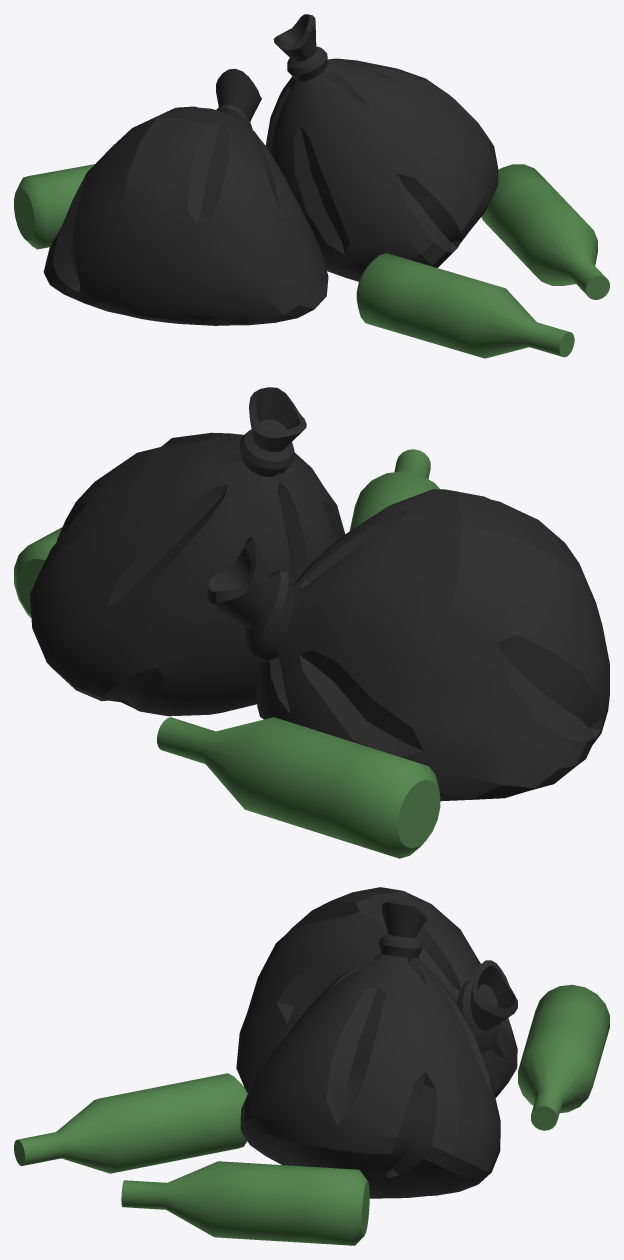
Rendered from TrashGlass.glb.
3 views of the same model, one above another, from view 1: azimuth 30°, elevation 25°; view 2: azimuth 150°, elevation 25°; view 3: azimuth 270°, elevation 25° (orthographic). The views are drawn at different scales.
Visible parts, largest first — view 1: TrashBag_2, Cylinder010, Cylinder011, Cylinder012; view 2: TrashBag_2, Cylinder012, Cylinder010, Cylinder011; view 3: TrashBag_2, Cylinder011, Cylinder010, Cylinder012.
Part boxes in pixels (x1,y1,x2,y2): TrashBag_2: [43, 14, 498, 325]; Cylinder010: [356, 253, 574, 358]; Cylinder011: [481, 164, 609, 299]; Cylinder012: [14, 164, 94, 249]; TrashBag_2: [30, 387, 609, 801]; Cylinder012: [157, 717, 440, 858]; Cylinder010: [349, 449, 439, 530]; Cylinder011: [14, 527, 62, 618]; TrashBag_2: [236, 887, 517, 1198]; Cylinder011: [121, 1161, 369, 1245]; Cylinder010: [14, 1073, 247, 1173]; Cylinder012: [518, 984, 609, 1130].
Bounding box in the file's own units: 1.02 × 0.53 × 1.11.
